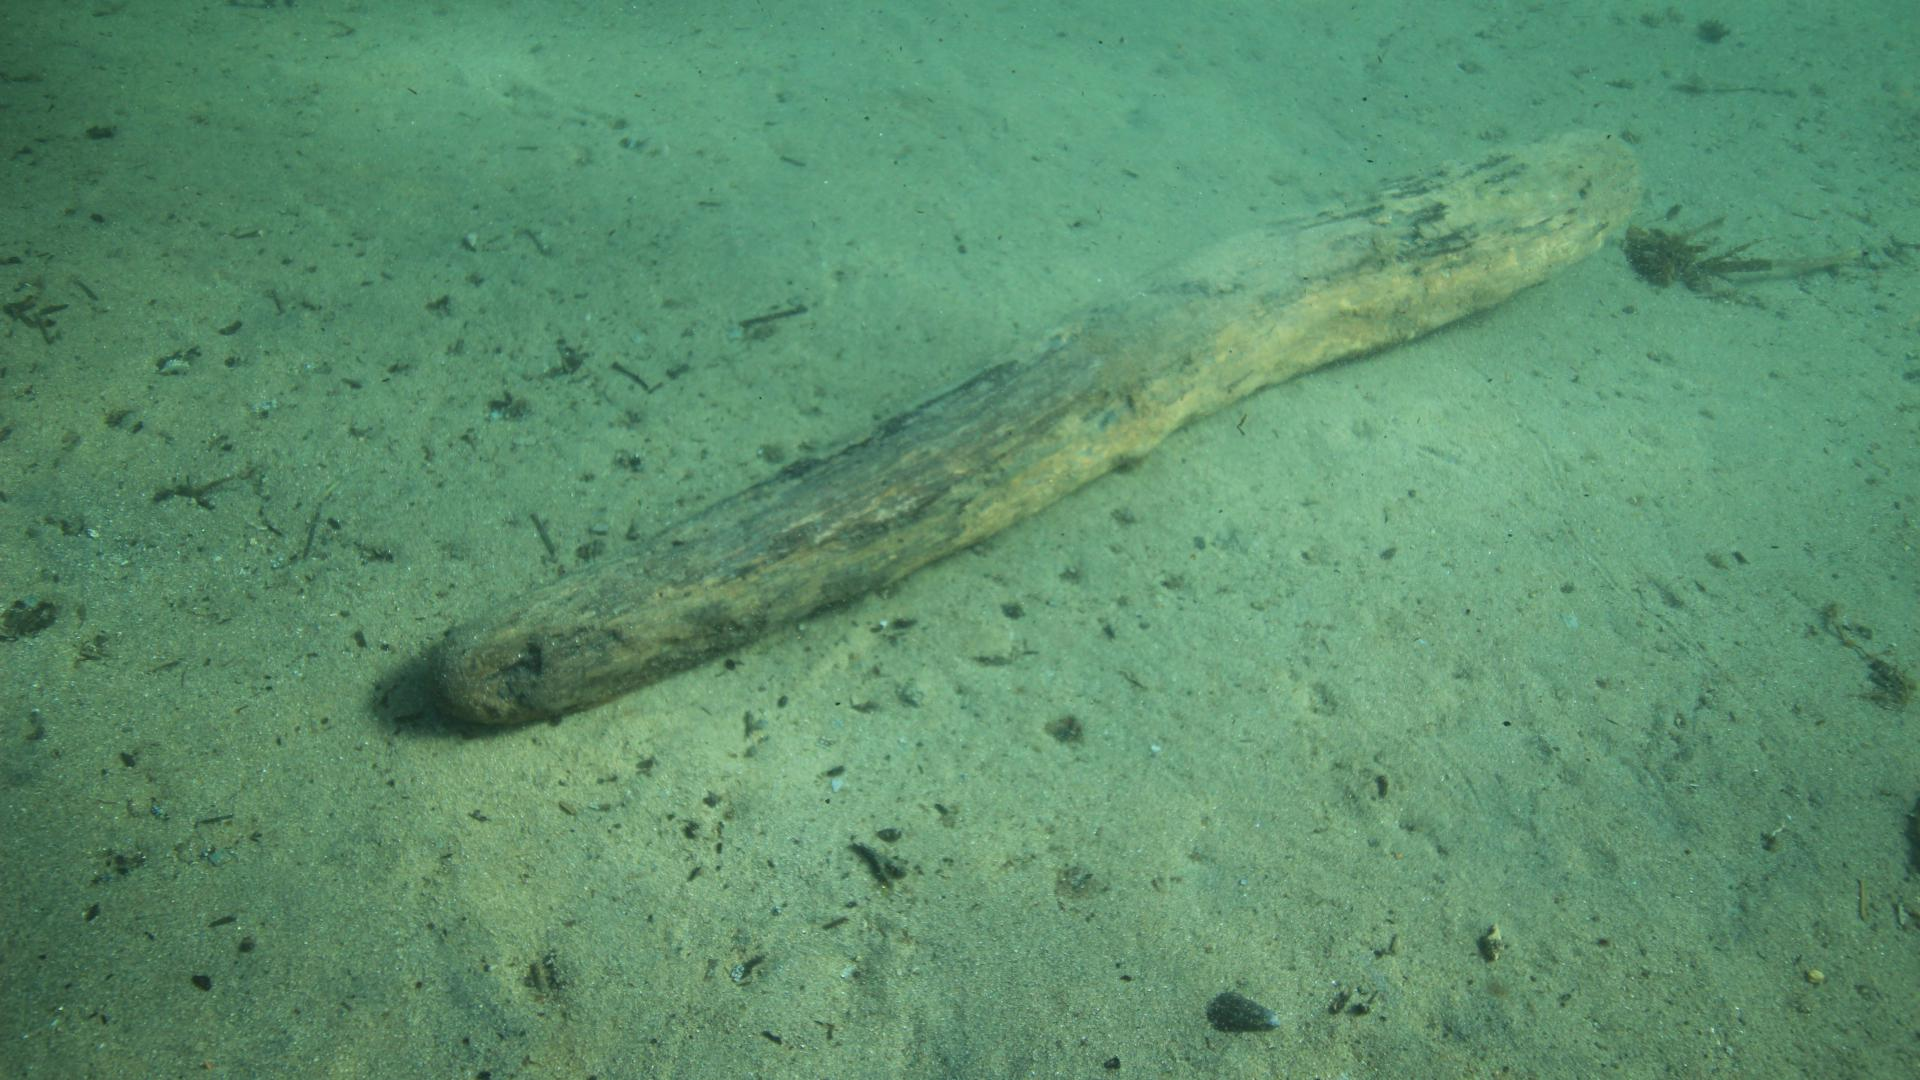wood: (431, 129, 1643, 725)
